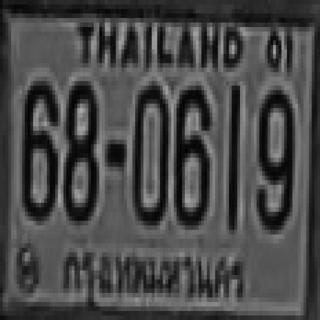N00: (131, 81, 167, 221)
N01: (225, 81, 239, 230)
N06: (19, 77, 58, 216), (172, 81, 208, 225)
N08: (62, 77, 98, 221)
N09: (254, 88, 292, 228)
P04: (57, 240, 252, 315)
